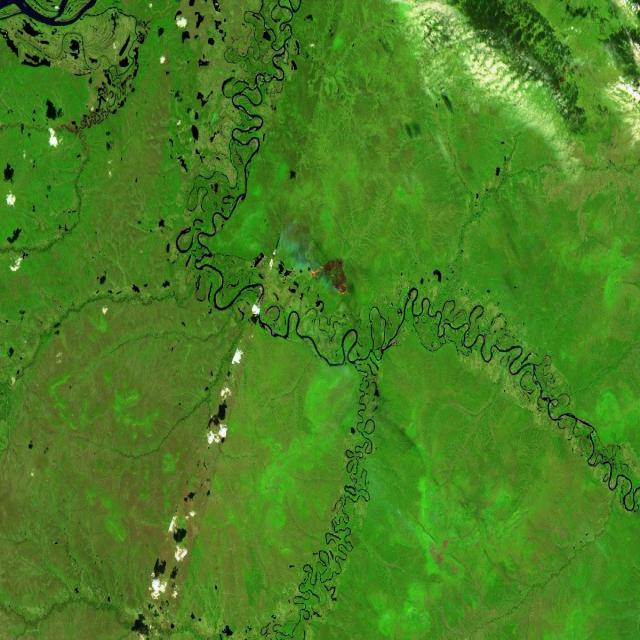fire: (306, 253, 352, 298)
